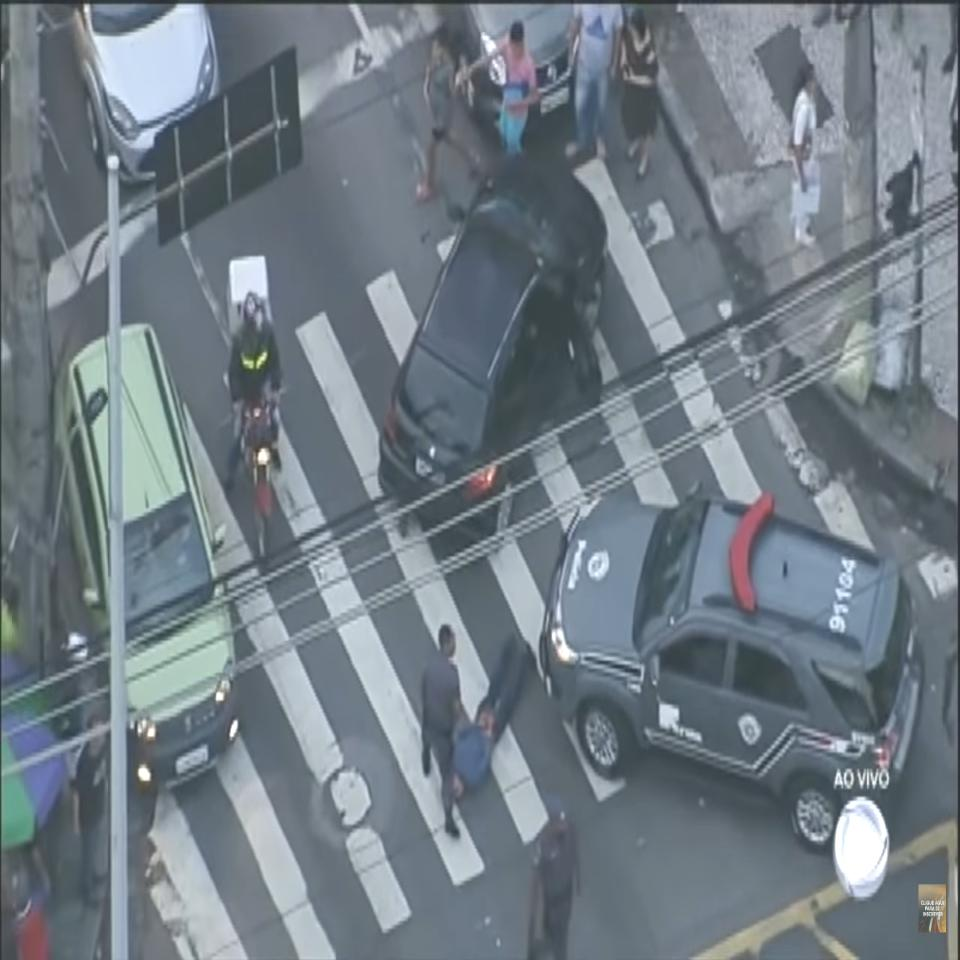viatura: (540, 473, 928, 855)
